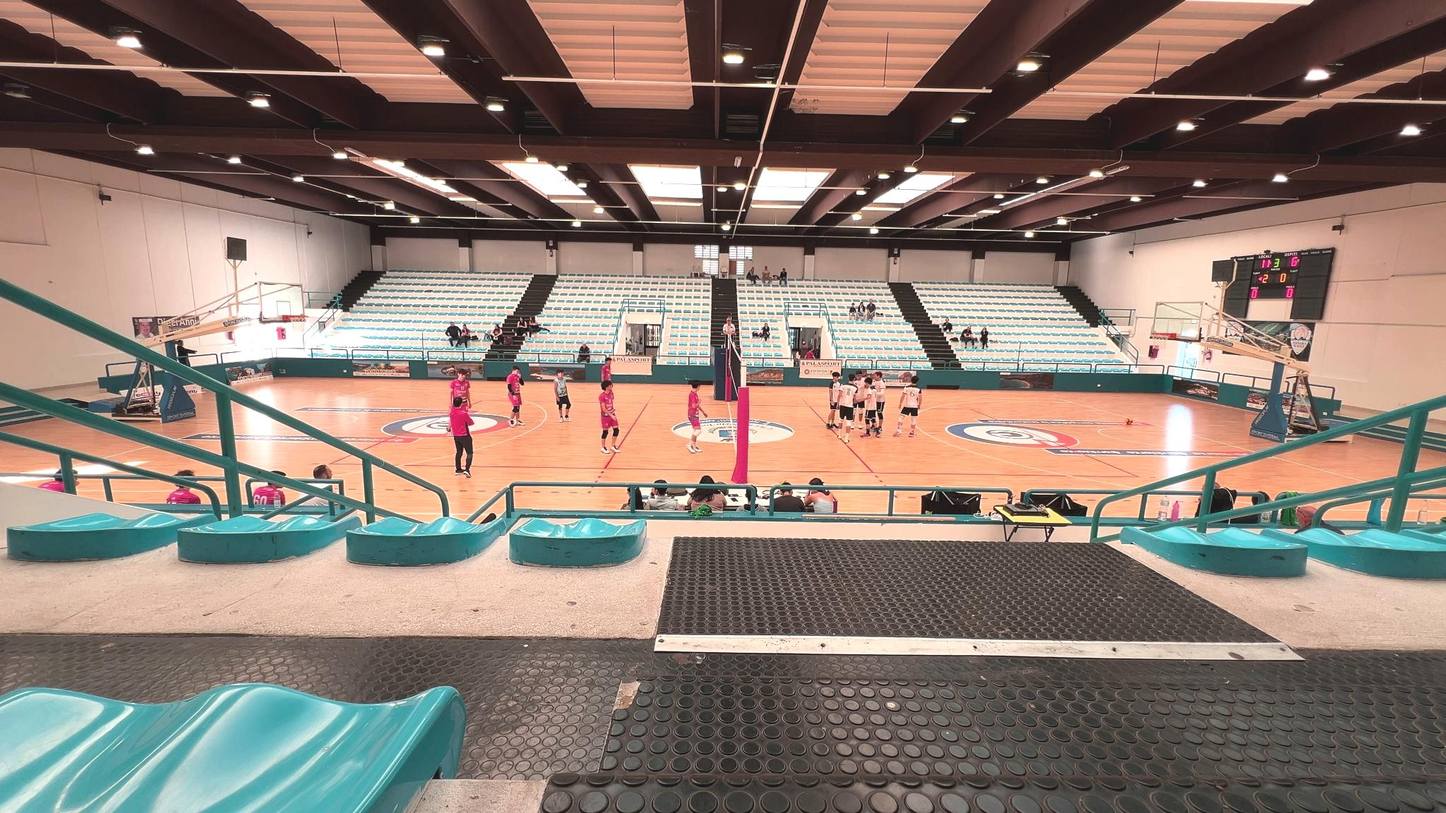volleyball court: (331, 397, 1143, 479)
